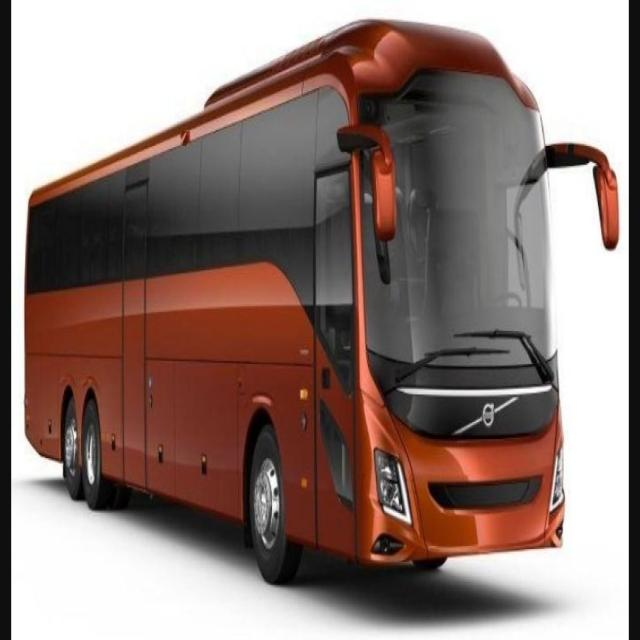bus: (25, 20, 619, 582)
